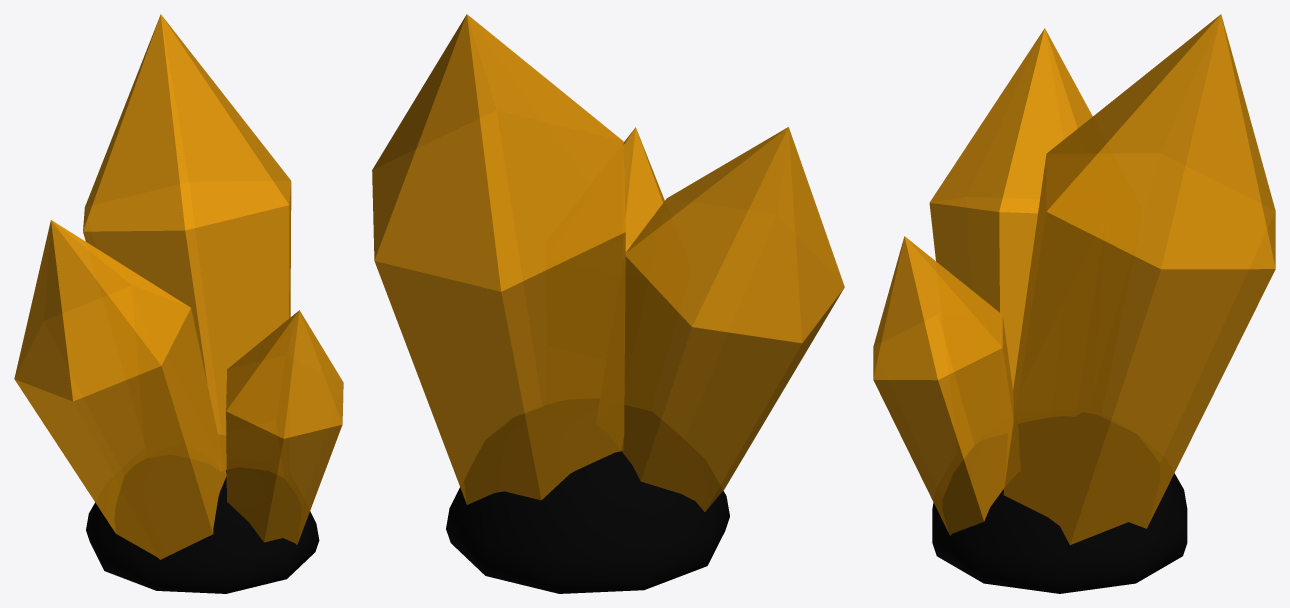
File: GoalPickup.fbx
3 renders of one model, left to right at view 1: azimuth 30°, elevation 25°; view 2: azimuth 150°, elevation 25°; view 3: azimuth 270°, elevation 25°, orthographic. The views are drawn at different scales.
Parts seen in each view (by area): view 1: Crystal; view 2: Crystal; view 3: Crystal.
Boxes of the visible parts, bbox=[...] form: Crystal: bbox=[14, 14, 343, 593]; Crystal: bbox=[372, 14, 844, 593]; Crystal: bbox=[873, 14, 1275, 593].
Size of the model in its own units: 3.03 by 4.4 by 2.93.
